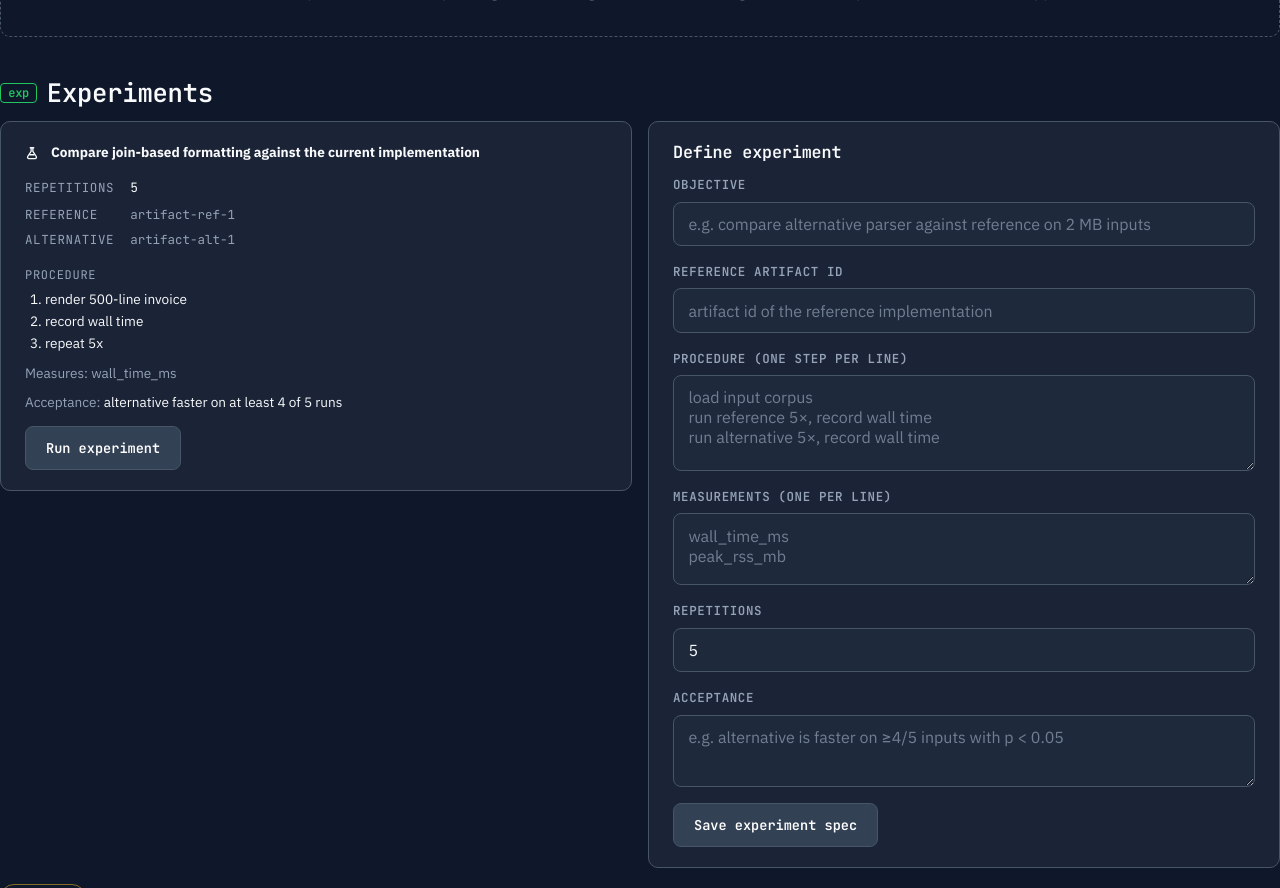
InvestigationPage › lists experiment specs and reports the 501 when a run is requested
(page scrolled)
Expected: the text "Compare join-based formatting" is shown, [51, 143, 480, 161]
Click the button "Run experiment". click: (103, 448)
box: [25, 426, 181, 470]
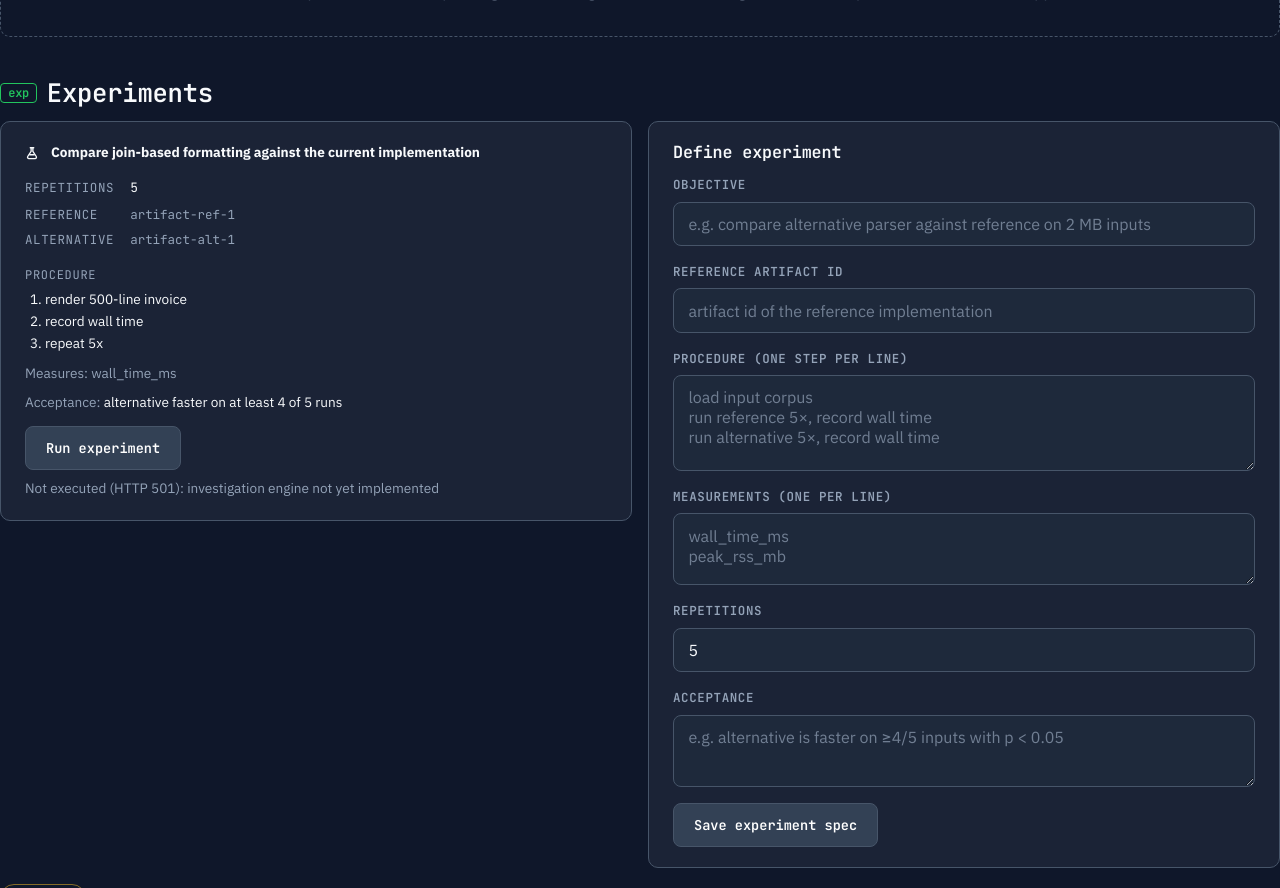
Result: the text "Not executed (HTTP 501): investigation engine not yet implemented" is shown at [25, 479, 439, 497]
